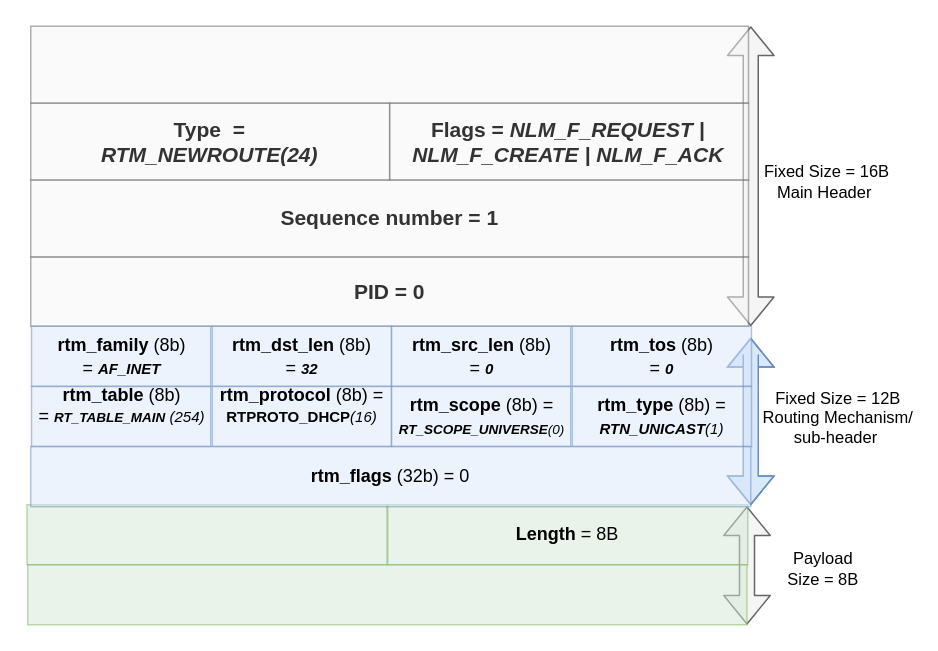
The diagram is 938 pixels wide and 651 high, and some of its shapes have lost their labels. Here are the shapes that lost their labels. From the top down, the centre of each, then its label:
At (x=388, y=64): "Length = 36 Bytes".
At (x=206, y=534): "Type = RTA_DST(1) (16b)".
At (x=386, y=594): "Value = 0x0A0A0A0A (32b)".
